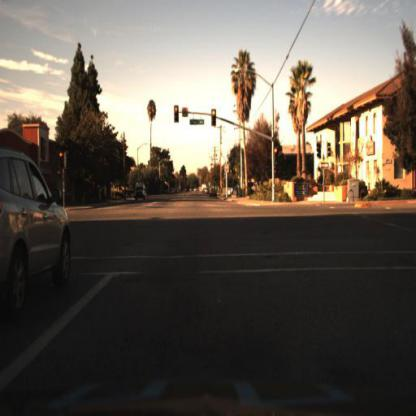car: (1, 149, 74, 294), (133, 183, 147, 204)
trafficLight-Red: (210, 107, 218, 127), (276, 145, 282, 163)
trafficLight-RedLeft: (57, 148, 66, 172), (173, 104, 181, 125)
